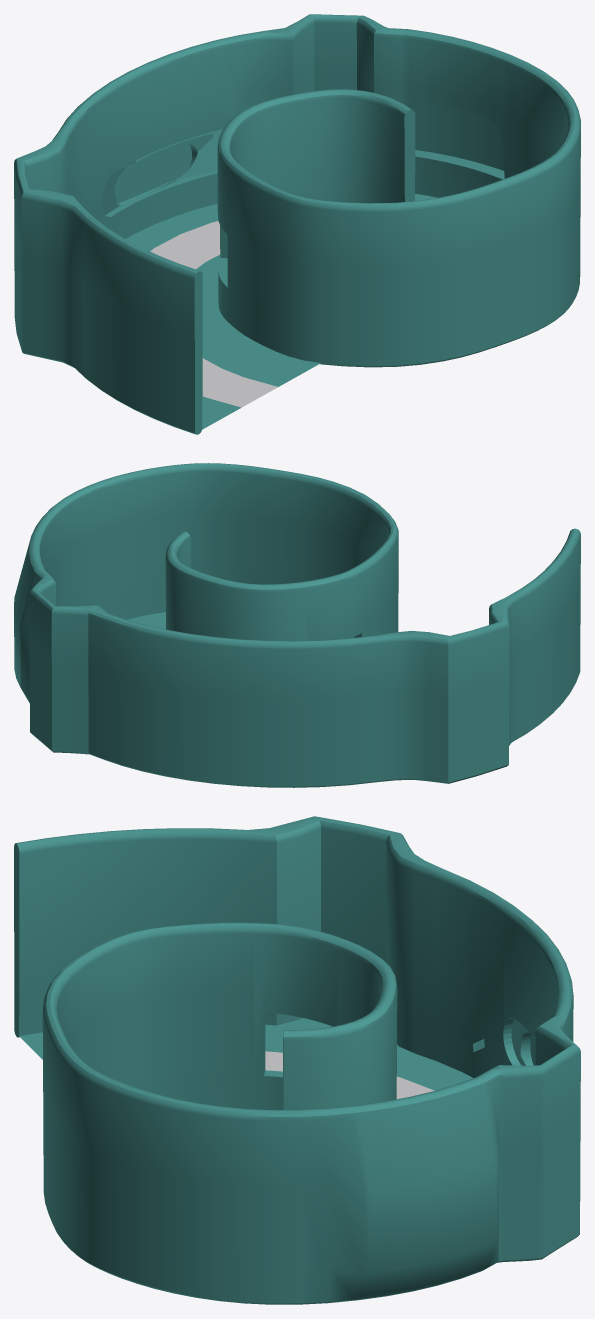
The model's file is chao.fbx.
3 renders of one model, top to bottom at view 1: azimuth 30°, elevation 25°; view 2: azimuth 150°, elevation 25°; view 3: azimuth 270°, elevation 25°, orthographic. The views are drawn at different scales.
Parts seen in each view (by area): view 1: ParedesPrincipais.003; view 2: ParedesPrincipais.003; view 3: ParedesPrincipais.003.
Boxes of the visible parts, <box> form: ParedesPrincipais.003: <box>14,14,580,434</box>; ParedesPrincipais.003: <box>14,463,580,787</box>; ParedesPrincipais.003: <box>14,816,580,1304</box>.
Size of the model in its own units: 2416 by 807 by 1912.
